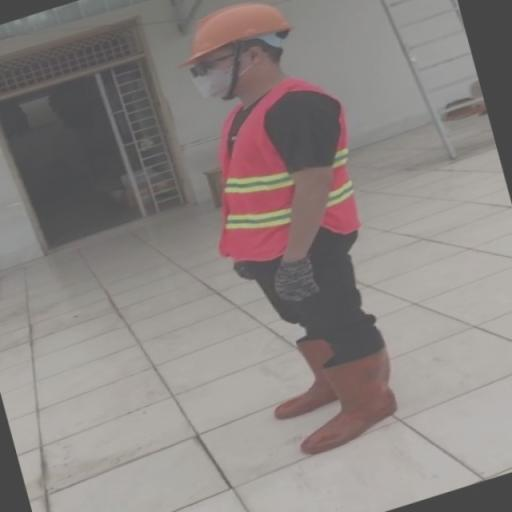Person: (130, 5, 455, 490)
boots: (296, 342, 406, 467), (258, 327, 340, 426)
gloves: (270, 250, 321, 316)
helmet: (166, 0, 296, 62)
vest: (204, 96, 362, 256)
